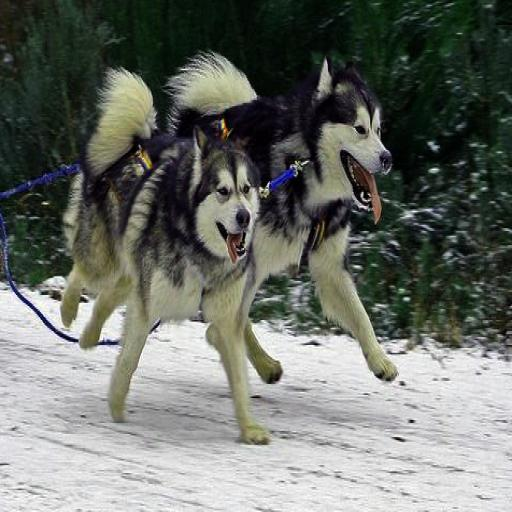dog_face: (311, 54, 397, 224), (182, 113, 272, 274)
